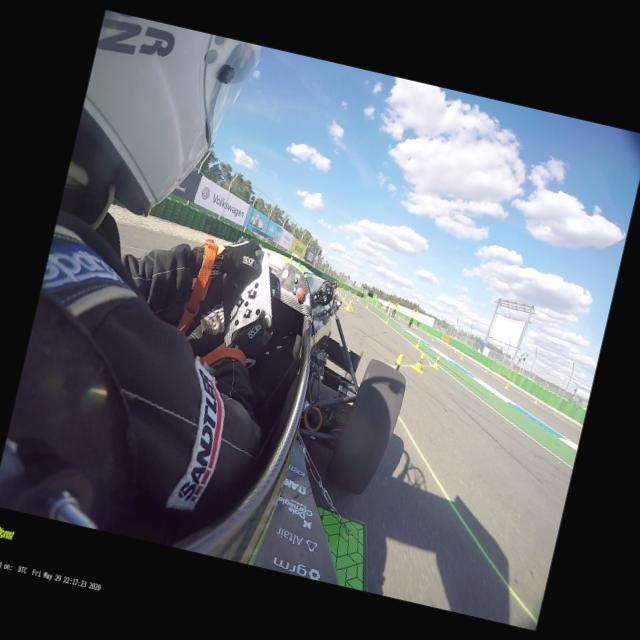yellow_cone: (411, 351, 426, 374), (392, 354, 403, 372), (429, 354, 440, 370), (413, 338, 420, 349), (345, 299, 351, 311), (383, 316, 389, 324), (458, 352, 463, 360), (504, 382, 508, 388), (364, 303, 368, 309), (342, 294, 346, 300), (483, 368, 487, 372), (426, 331, 429, 336), (431, 336, 434, 340), (398, 315, 400, 319)
